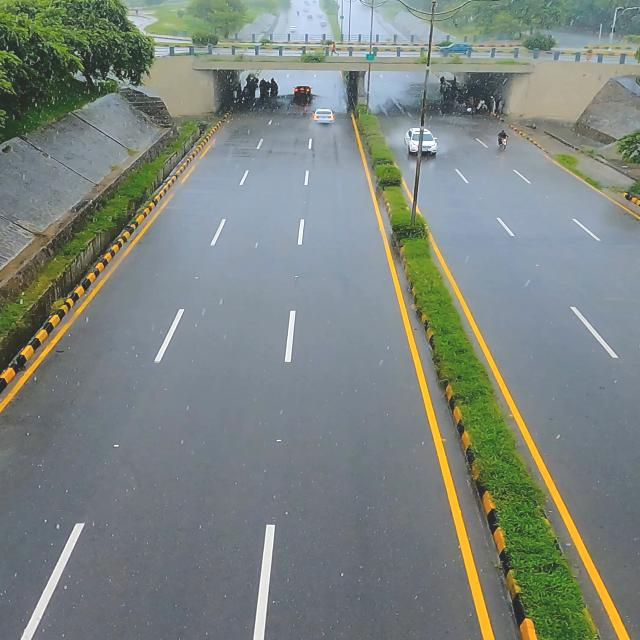Vehicle: (404, 124, 444, 159), (310, 105, 342, 128)
